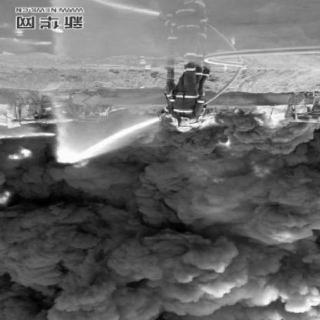Fire: (180, 111, 290, 141)
Smoke: (2, 145, 320, 320)
